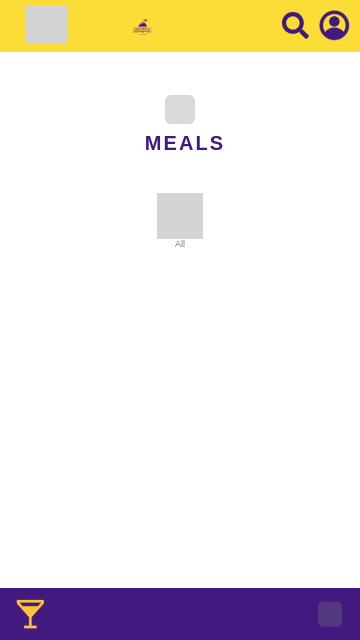
Test: 10 - Implemente os elementos da barra de busca respeitando os atributos descritos no protótipo › Tem os data-testids tanto da barra de busca quanto de todos os radio-buttons
The image size is (360, 640).
Step 1. Click the picture with test id "search-top-btn" → (296, 26), box [282,12,309,39]
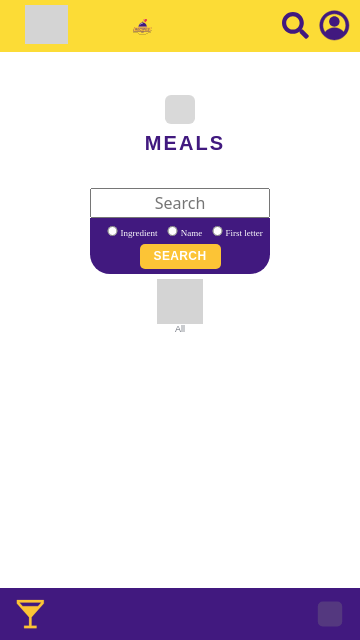
Now the field with test id "search-input" is shown, box [90,188,270,218]
Now the radio button with test id "ingredient-search-radio" is shown, box [107,226,117,236]
Now the radio button with test id "name-search-radio" is shown, box [168,226,178,236]
